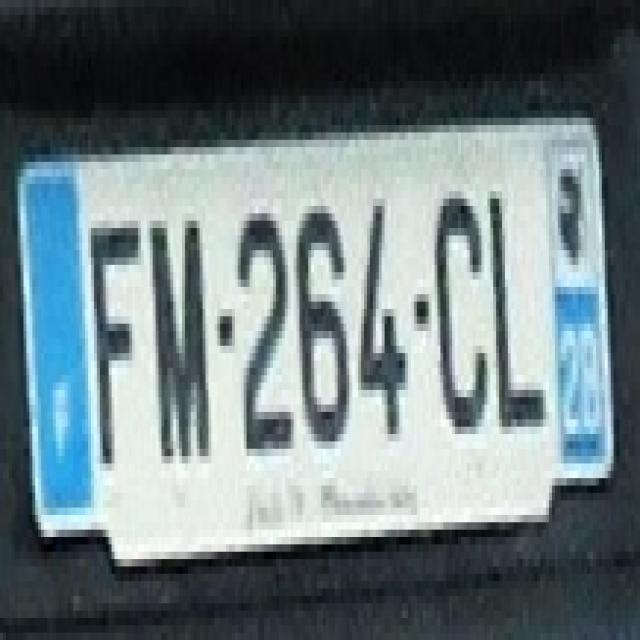EU: (21, 131, 606, 512)
France: (22, 168, 93, 510)
